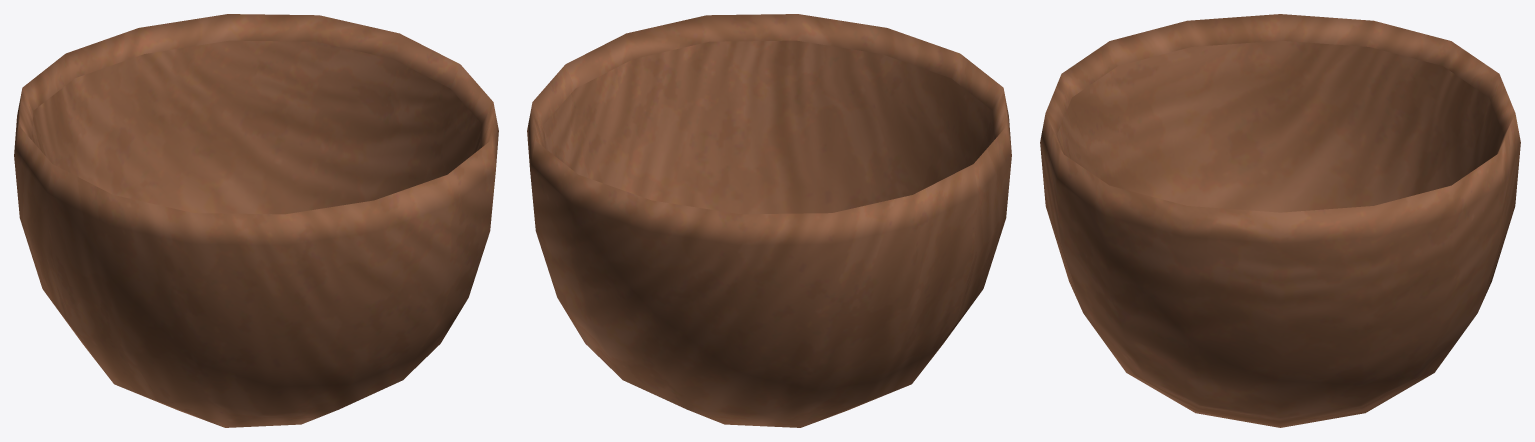
Rendered from Tigela.fbx.
The picture shows the model from 3 angles, left to right: view 1: azimuth 30°, elevation 25°; view 2: azimuth 150°, elevation 25°; view 3: azimuth 270°, elevation 25°; orthographic projection.
Visible parts, largest first — view 1: Tigela; view 2: Tigela; view 3: Tigela.
Part boxes in pixels (x1,y1,x2,y2): Tigela: (14, 14, 498, 427); Tigela: (527, 14, 1011, 427); Tigela: (1040, 14, 1520, 427).
Size of the model in its own units: 12.22 by 8.15 by 12.22.
1 material, 1 textured.
